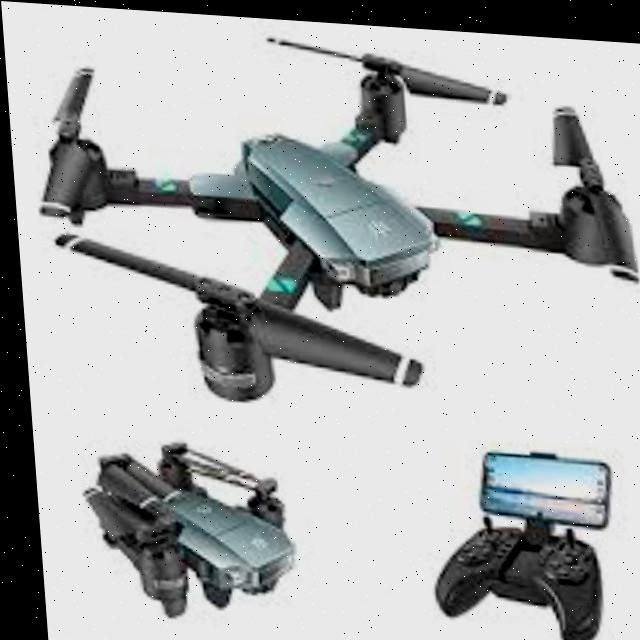drone: (1, 18, 640, 420)
